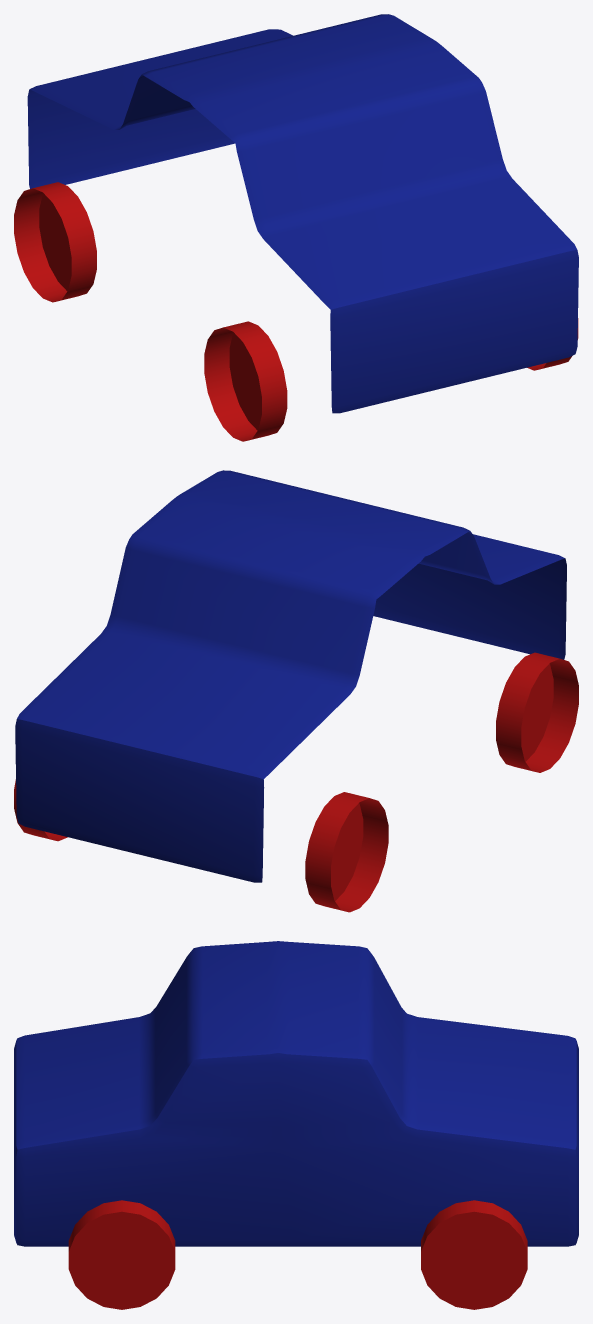
File: voiture.fbx
3 views of the same model, one above another, from view 1: azimuth 30°, elevation 25°; view 2: azimuth 150°, elevation 25°; view 3: azimuth 270°, elevation 25° (orthographic). The views are drawn at different scales.
Parts seen in each view (by area): view 1: Box085, Cylinder053, Cylinder052; view 2: Box085, Cylinder052, Cylinder053; view 3: Box085, Cylinder051, Cylinder050.
Part boxes in pixels (x1,y1,x2,y2): Box085: (27,14,578,413); Cylinder053: (204,321,287,441); Cylinder052: (14,182,96,302); Box085: (15,470,566,882); Cylinder052: (305,792,388,912); Cylinder053: (496,652,578,772); Box085: (14,941,578,1246); Cylinder051: (68,1200,175,1309); Cylinder050: (421,1200,527,1309).
Size of the model in its own units: 17.49 by 14.01 by 29.2.
